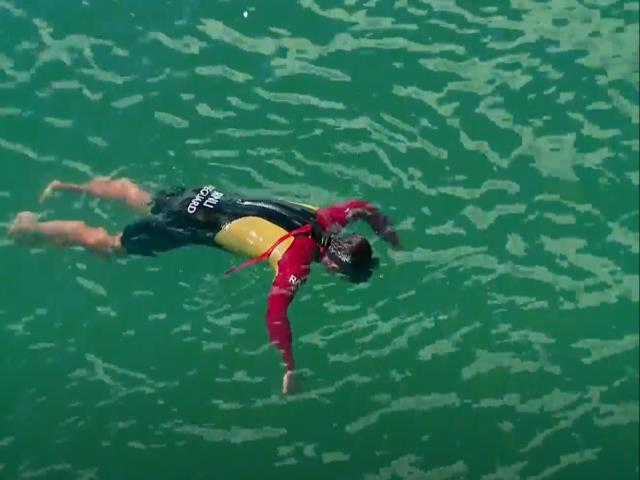drowning: (7, 142, 427, 406)
